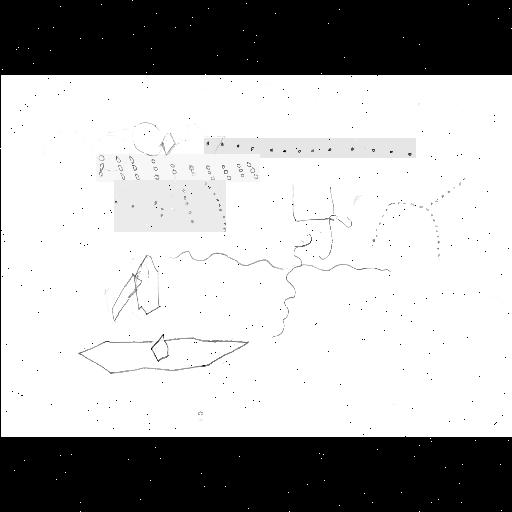shape-1: (130, 120, 178, 158)
shape-2: (204, 138, 416, 158)
shape-3: (96, 154, 260, 182)
shape-4: (114, 180, 226, 232)
shape-5: (290, 182, 352, 260)
shape-6: (368, 176, 468, 258)
shape-7: (168, 232, 390, 338)
shape-8: (109, 252, 159, 322)
shape-9: (77, 333, 249, 375)
